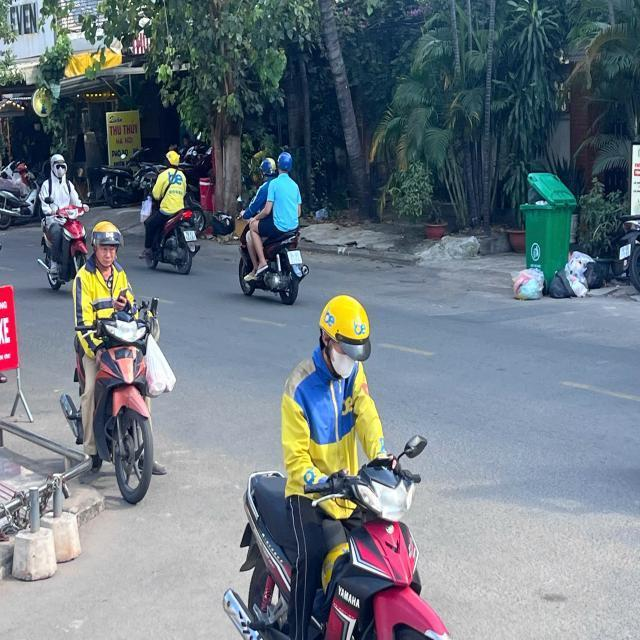motorcycle: (221, 435, 499, 639), (74, 301, 164, 511), (235, 227, 312, 305), (38, 202, 90, 293), (146, 208, 203, 275), (1, 158, 41, 227)
